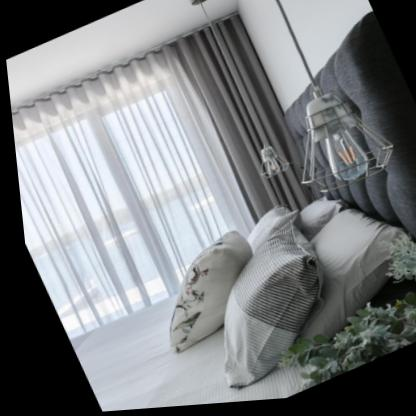Curtains: (2, 6, 339, 337)
